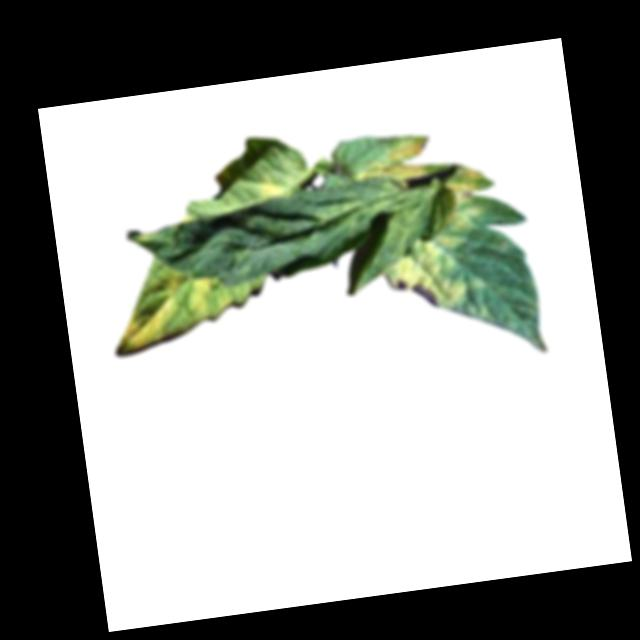Leaf_Mold: (105, 265, 238, 358), (311, 178, 440, 262), (377, 229, 475, 316), (348, 132, 437, 190), (437, 160, 494, 231), (258, 168, 292, 202)
